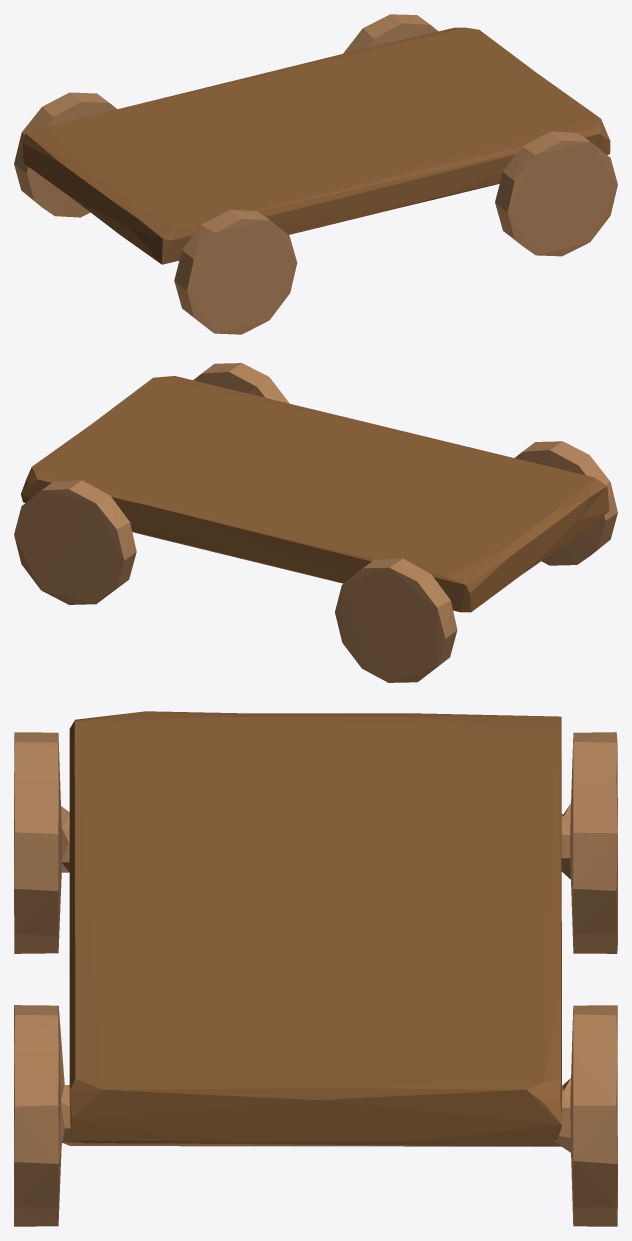
Rendered from LPCP_Bottom01.fbx.
The picture shows the model from 3 angles, top to bottom: view 1: azimuth 30°, elevation 25°; view 2: azimuth 150°, elevation 25°; view 3: azimuth 270°, elevation 25°; orthographic projection. The views are drawn at different scales.
Parts seen in each view (by area): view 1: LPCP_Bottom01, LPCP_Bottom01_Forward01, LPCP_Bottom01_Backward01; view 2: LPCP_Bottom01, LPCP_Bottom01_Forward01, LPCP_Bottom01_Backward01; view 3: LPCP_Bottom01, LPCP_Bottom01_Backward01, LPCP_Bottom01_Forward01.
Boxes of the visible parts, <box> form: LPCP_Bottom01: <box>22,27,610,264</box>; LPCP_Bottom01_Forward01: <box>14,92,297,334</box>; LPCP_Bottom01_Backward01: <box>343,14,617,256</box>; LPCP_Bottom01: <box>21,376,609,612</box>; LPCP_Bottom01_Forward01: <box>335,441,617,682</box>; LPCP_Bottom01_Backward01: <box>14,363,289,604</box>; LPCP_Bottom01: <box>69,711,561,1143</box>; LPCP_Bottom01_Backward01: <box>14,1005,617,1226</box>; LPCP_Bottom01_Forward01: <box>14,732,617,953</box>.
Bounding box in the file's own units: 3.78 × 0.9321 × 2.53.
